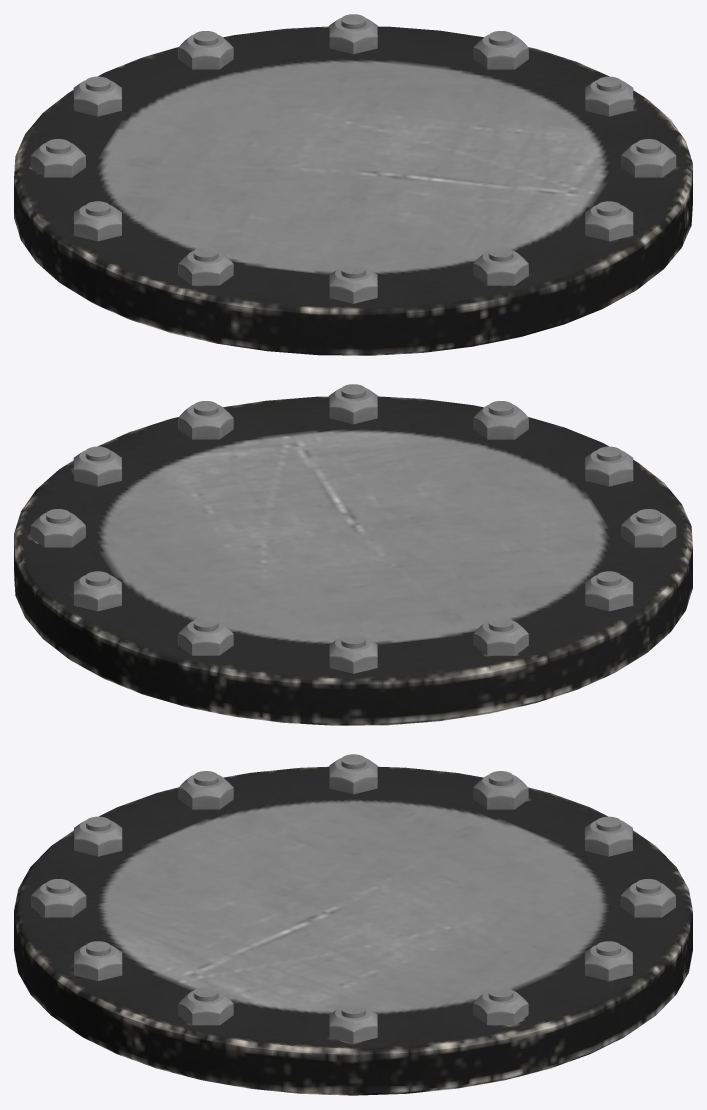
File: TampaTubo.glb
3 views of the same model, one above another, from view 1: azimuth 30°, elevation 25°; view 2: azimuth 150°, elevation 25°; view 3: azimuth 270°, elevation 25° (orthographic).
Visible parts, largest first — view 1: pipe_cap; view 2: pipe_cap; view 3: pipe_cap.
Boxes of the visible parts, <box> form: pipe_cap: <box>14,14,692,355</box>; pipe_cap: <box>14,384,692,725</box>; pipe_cap: <box>14,754,692,1095</box>.
Bounding box in the file's own units: 0.0258 × 0.00294 × 0.0258.
1 material, 1 textured.
